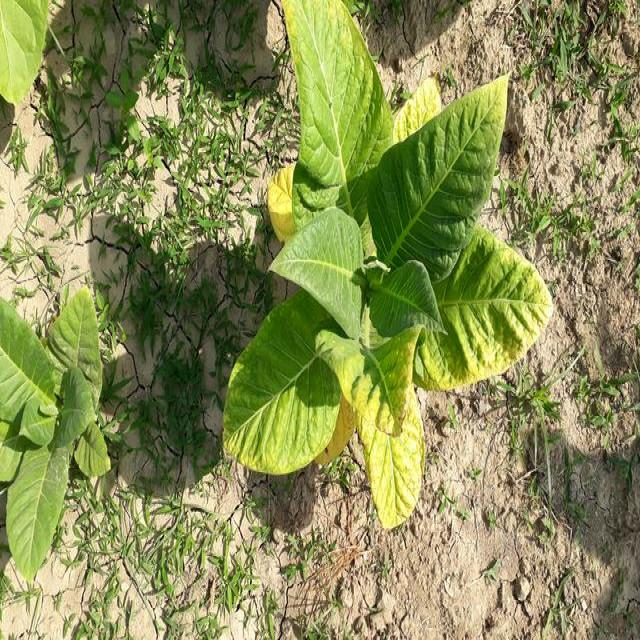crop: (224, 1, 556, 528), (8, 296, 109, 563), (0, 1, 56, 96)
